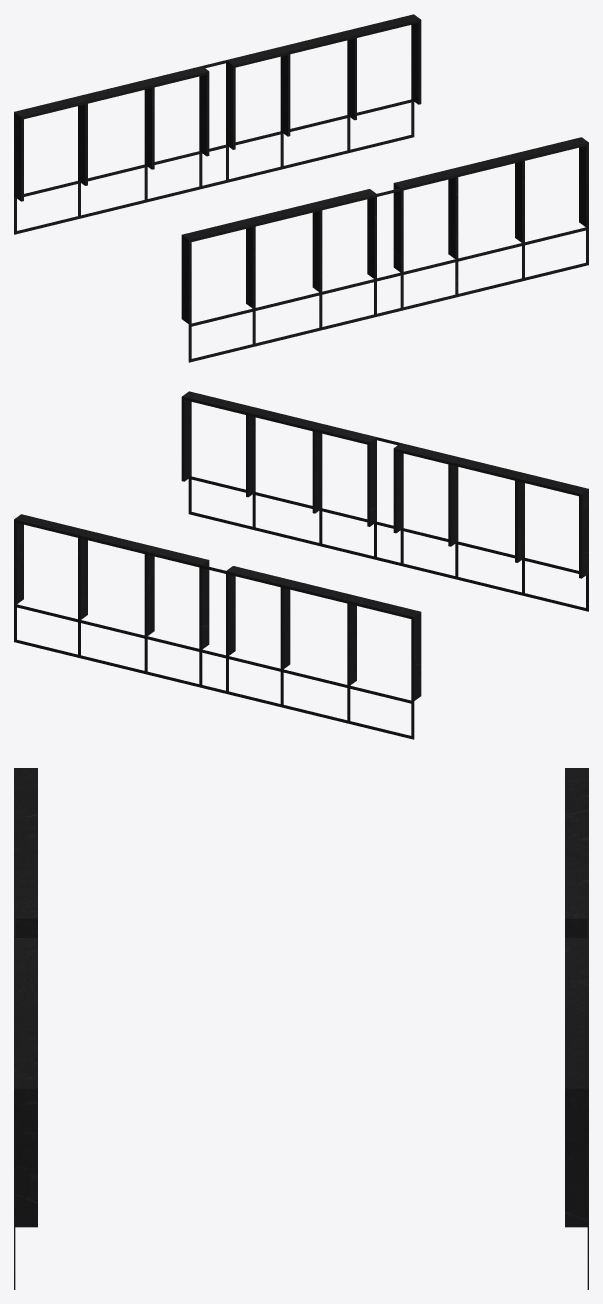
File: arena_window_frames.dae
The picture shows the model from 3 angles, top to bottom: view 1: azimuth 30°, elevation 25°; view 2: azimuth 150°, elevation 25°; view 3: azimuth 270°, elevation 25°; orthographic projection. The views are drawn at different scales.
Parts seen in each view (by area): view 1: arena_window_frames_2; view 2: arena_window_frames_2; view 3: arena_window_frames_2.
Boxes of the visible parts, x1,y1,x2,y2 form: arena_window_frames_2: [14, 14, 588, 362]; arena_window_frames_2: [14, 391, 588, 739]; arena_window_frames_2: [14, 768, 588, 1289].
Bounding box in the file's own units: 7.68 × 5.83 × 2.25.
Materials: 1 (1 with a texture image).
